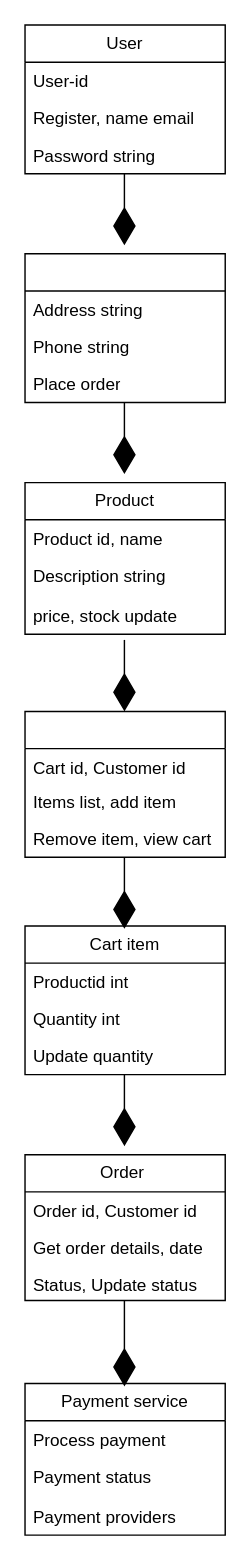
The diagram is 250 pixels wide and 1564 high, and some of its shapes have lost their labels. Each missing label, with the box of its shape:
Customer: (24, 252, 225, 403)
Shopping cart: (24, 710, 225, 857)
